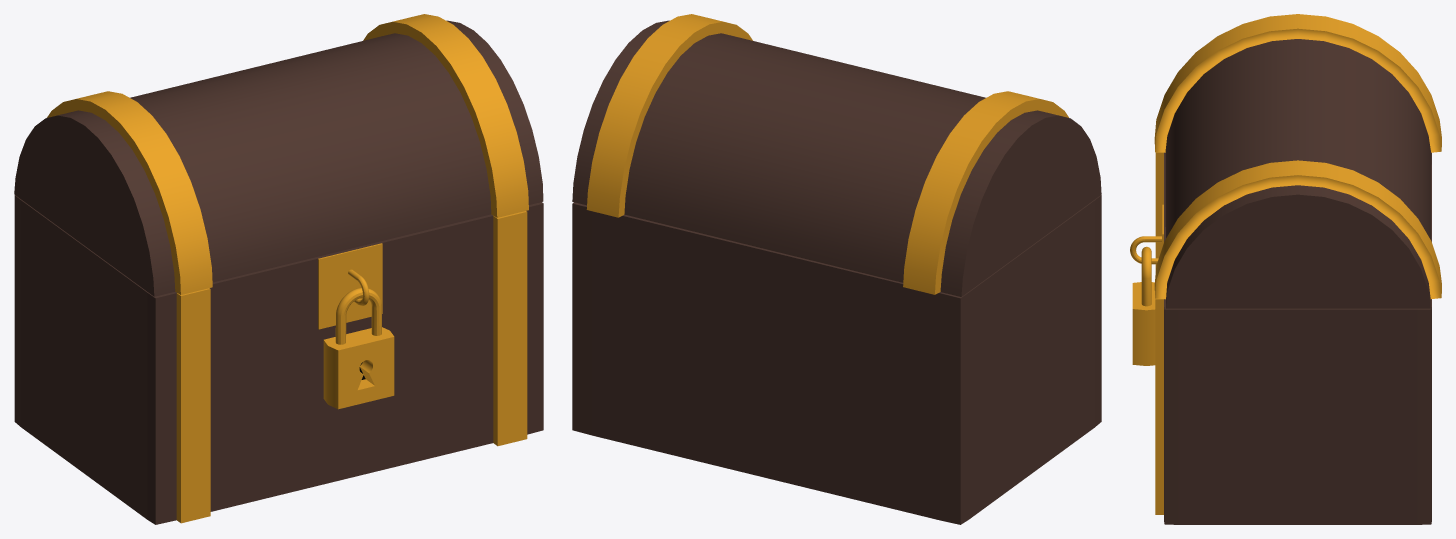
Rendered from Project2_Chest.fbx.
The picture shows the model from 3 angles, left to right: view 1: azimuth 30°, elevation 25°; view 2: azimuth 150°, elevation 25°; view 3: azimuth 270°, elevation 25°; orthographic projection. The views are drawn at different scales.
Visible parts, largest first — view 1: Treasure Chest; view 2: Treasure Chest; view 3: Treasure Chest.
Part boxes in pixels (bbox=[...]): Treasure Chest: bbox=[14, 14, 543, 524]; Treasure Chest: bbox=[572, 14, 1101, 524]; Treasure Chest: bbox=[1130, 14, 1441, 524].
Size of the model in its own units: 74.48 by 65.59 by 54.45.
